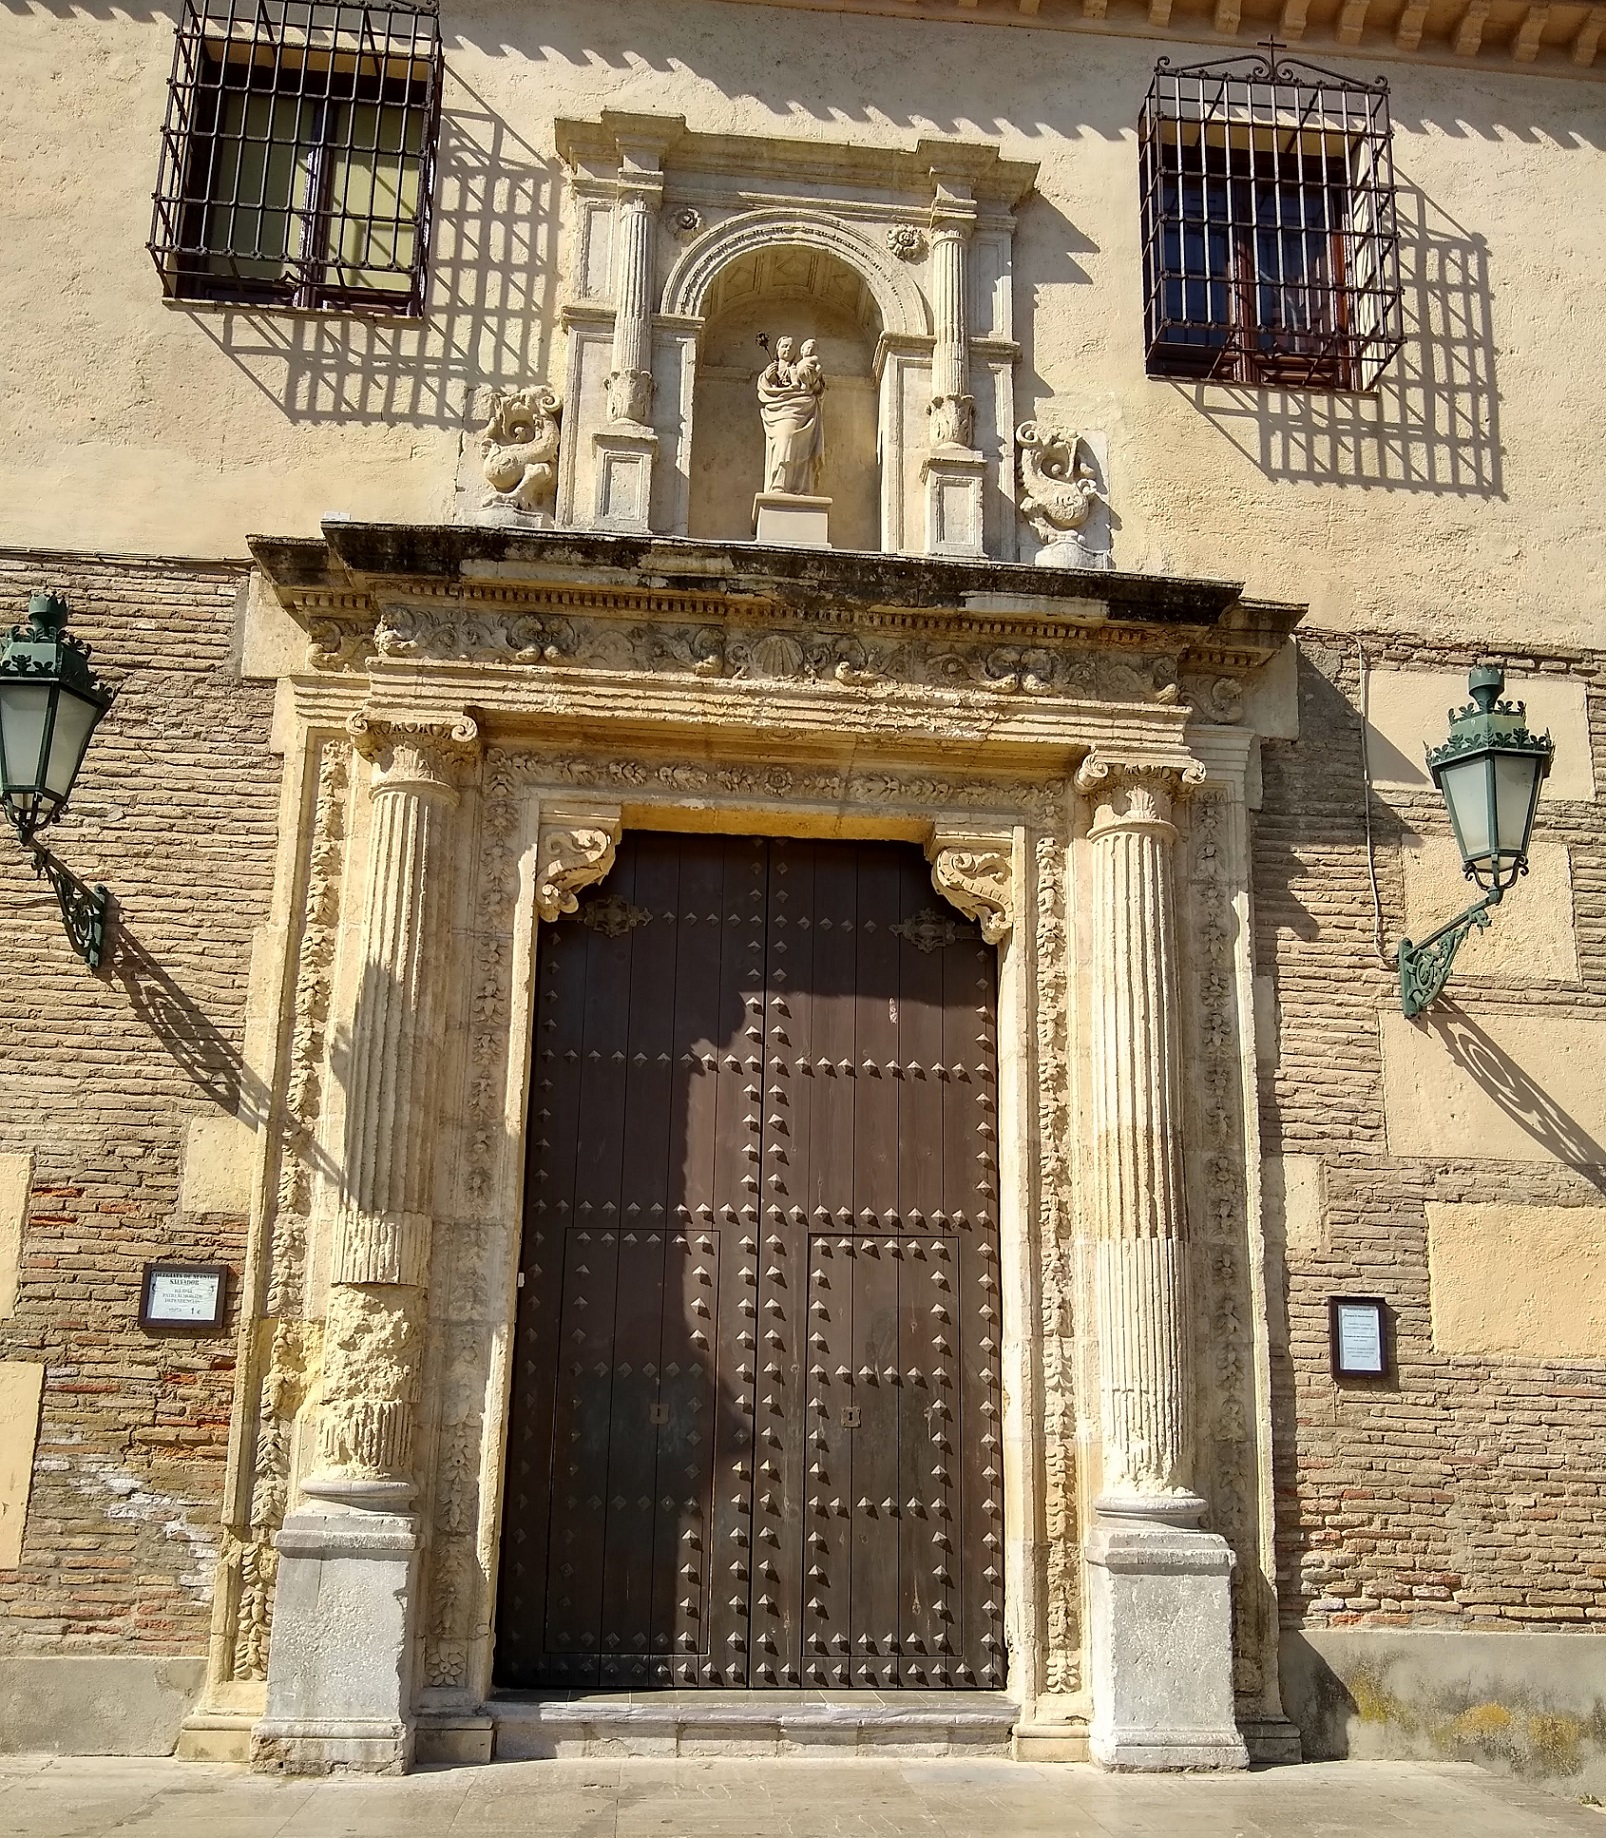arco-medio-punto: (680, 223, 914, 374)
vano-adintelado: (344, 694, 1190, 1772)
